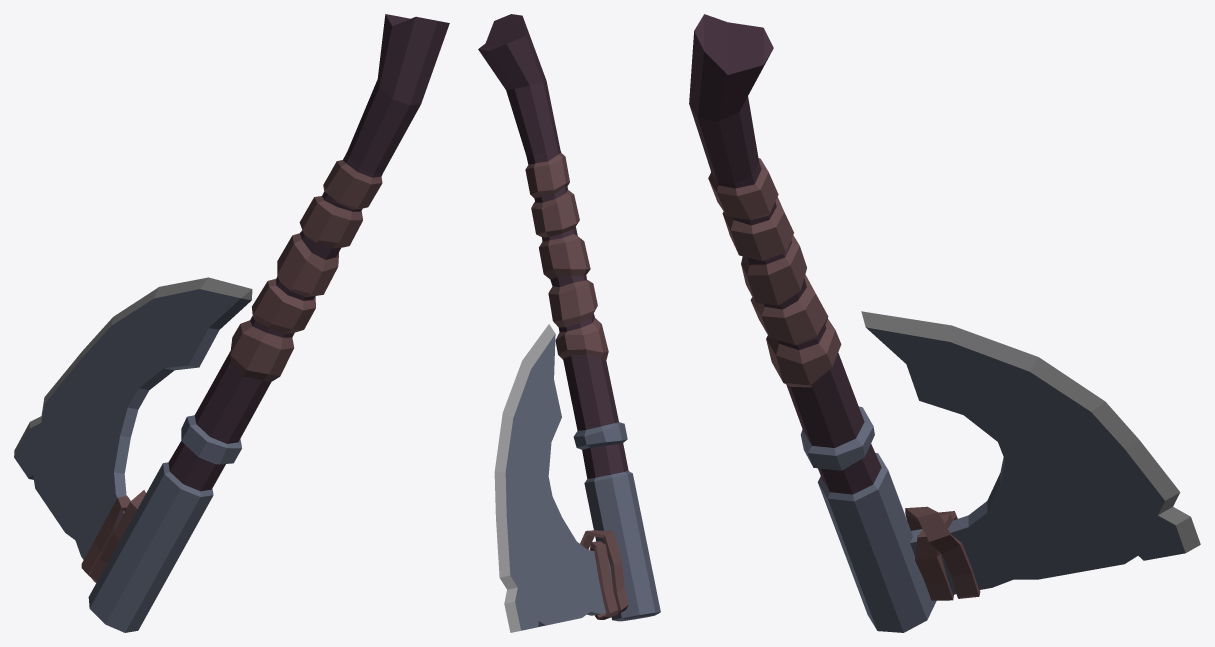
Rendered from Woodcutting Axe Base-CoFuas-O.glb.
The picture shows the model from 3 angles, left to right: view 1: azimuth 30°, elevation 25°; view 2: azimuth 150°, elevation 25°; view 3: azimuth 270°, elevation 25°; orthographic projection. The views are drawn at different scales.
Parts seen in each view (by area): view 1: Axe_small.001; view 2: Axe_small.001; view 3: Axe_small.001.
Part boxes in pixels (left/top/right/bottom): Axe_small.001: left=14, top=14, right=449, bottom=632; Axe_small.001: left=478, top=14, right=660, bottom=632; Axe_small.001: left=689, top=14, right=1200, bottom=632.
Size of the model in its own units: 0.3063 by 0.652 by 0.4106.
